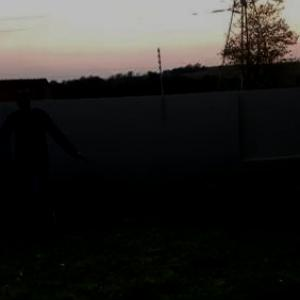land: (1, 99, 86, 234)
